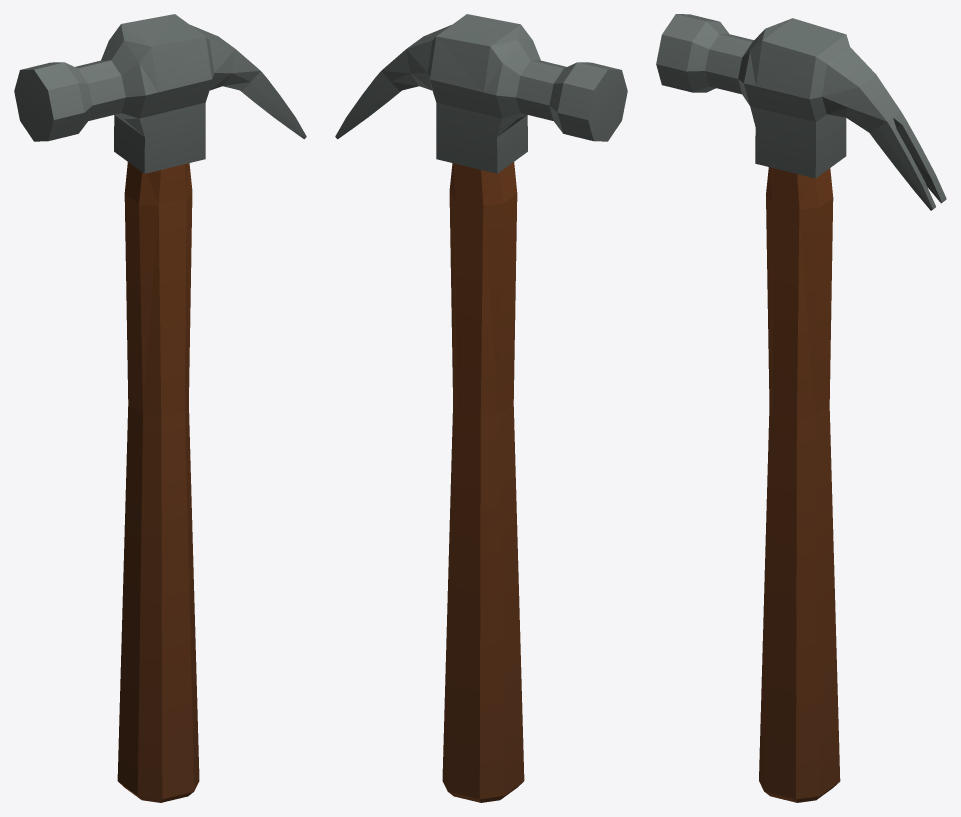
The model's file is Tool_Hammer_01.obj.
3 views of the same model, side by side, from view 1: azimuth 30°, elevation 25°; view 2: azimuth 150°, elevation 25°; view 3: azimuth 330°, elevation 25° (orthographic).
Visible parts, largest first — view 1: Tool_Hammer_01; view 2: Tool_Hammer_01; view 3: Tool_Hammer_01.
Part boxes in pixels (x1,y1,x2,y2): Tool_Hammer_01: (14, 14, 306, 802); Tool_Hammer_01: (335, 14, 627, 802); Tool_Hammer_01: (656, 14, 946, 802).
Size of the model in its own units: 0.1248 by 0.3402 by 0.0352.
1 material, 1 textured.
